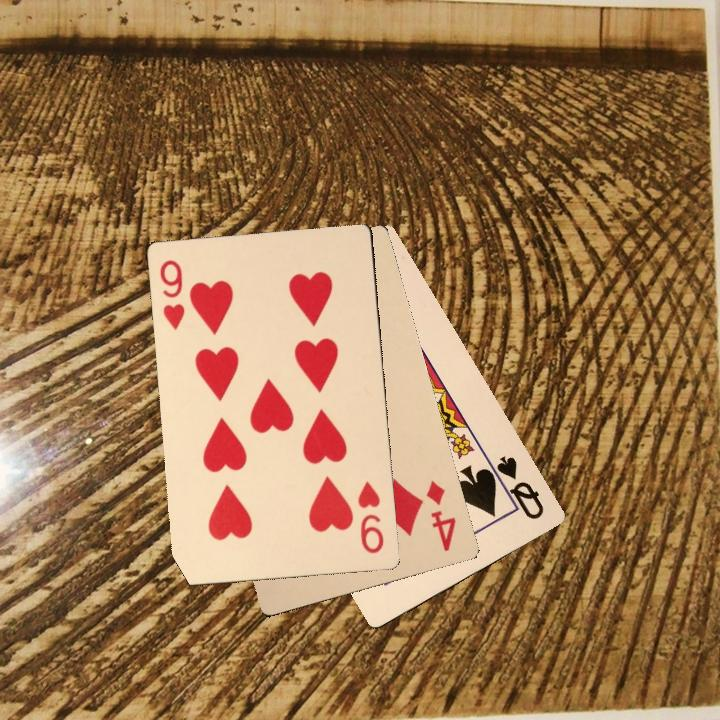4d: (421, 476, 459, 554)
9h: (354, 477, 387, 556), (155, 256, 188, 332)
Qs: (484, 452, 547, 522)
